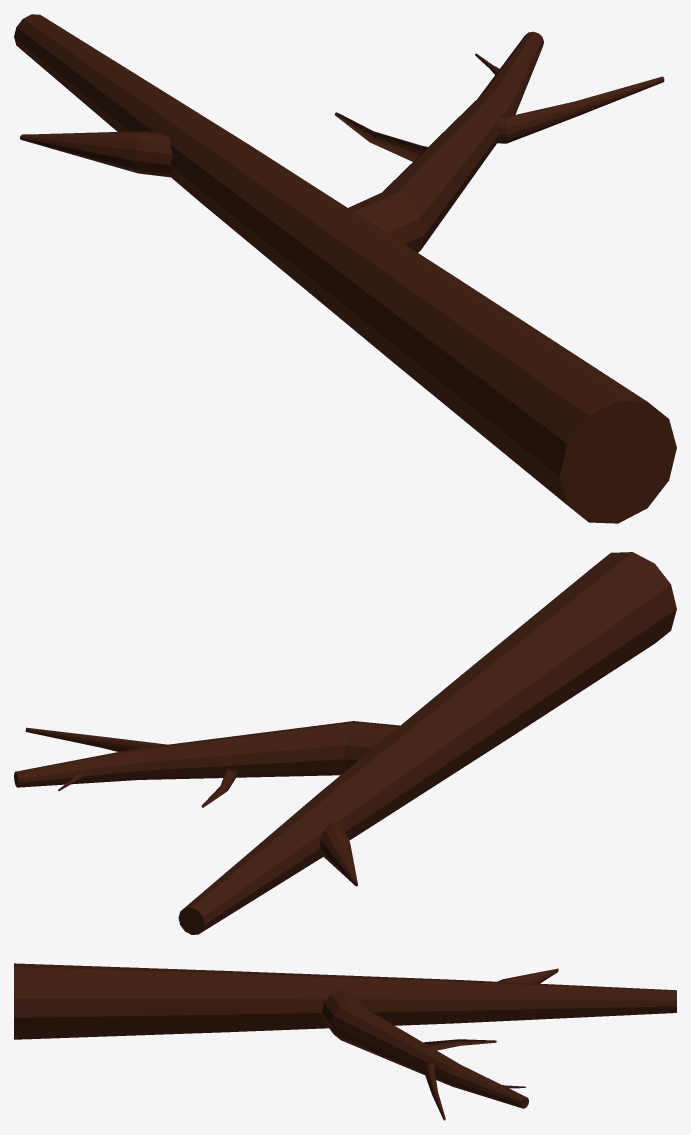
The model's file is Wood.fbx.
3 renders of one model, top to bottom at view 1: azimuth 30°, elevation 25°; view 2: azimuth 150°, elevation 25°; view 3: azimuth 270°, elevation 25°, orthographic. The views are drawn at different scales.
Parts seen in each view (by area): view 1: Cylinder; view 2: Cylinder; view 3: Cylinder.
Part boxes in pixels (box(x1,y1,x2,y2)): Cylinder: box(14, 14, 676, 523); Cylinder: box(14, 552, 676, 934); Cylinder: box(14, 963, 676, 1120).
Size of the model in its own units: 504 by 109 by 944.
